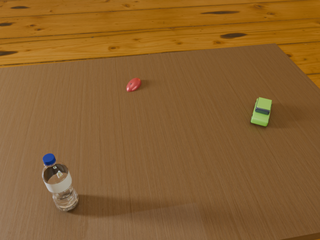bottle: (42, 154, 79, 212)
mouse: (126, 78, 141, 92)
toy_car: (250, 98, 272, 126)
